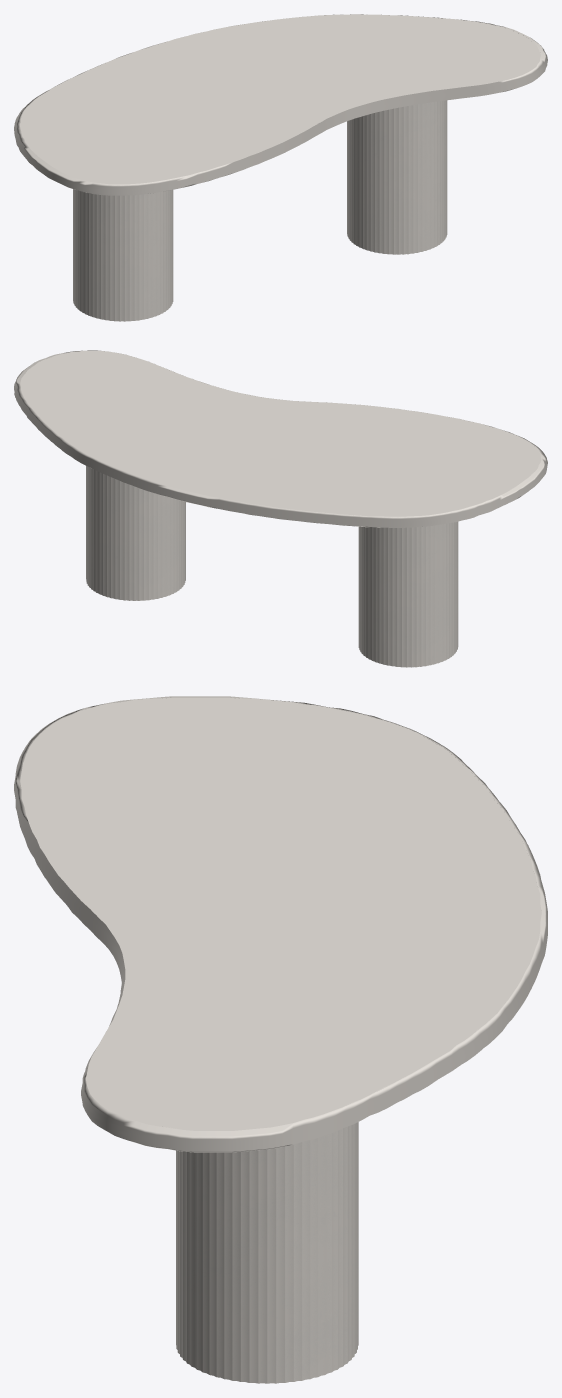
Rendered from pearlwhite_leaf1_round_ripplesecond.glb.
The picture shows the model from 3 angles, top to bottom: view 1: azimuth 30°, elevation 25°; view 2: azimuth 150°, elevation 25°; view 3: azimuth 270°, elevation 25°; orthographic projection. The views are drawn at different scales.
Visible parts, largest first — view 1: round_leaf1, ripplesecond; view 2: round_leaf1, ripplesecond; view 3: round_leaf1, ripplesecond.
Part boxes in pixels (left/top/right/bottom): round_leaf1: left=14, top=14, right=547, bottom=195; ripplesecond: left=73, top=100, right=447, bottom=321; round_leaf1: left=14, top=350, right=547, bottom=527; ripplesecond: left=86, top=466, right=458, bottom=667; round_leaf1: left=14, top=696, right=547, bottom=1152; ripplesecond: left=176, top=1122, right=358, bottom=1383.
Bounding box in the file's own units: 7.49 × 2.51 × 3.8.
1 material, 1 textured.
